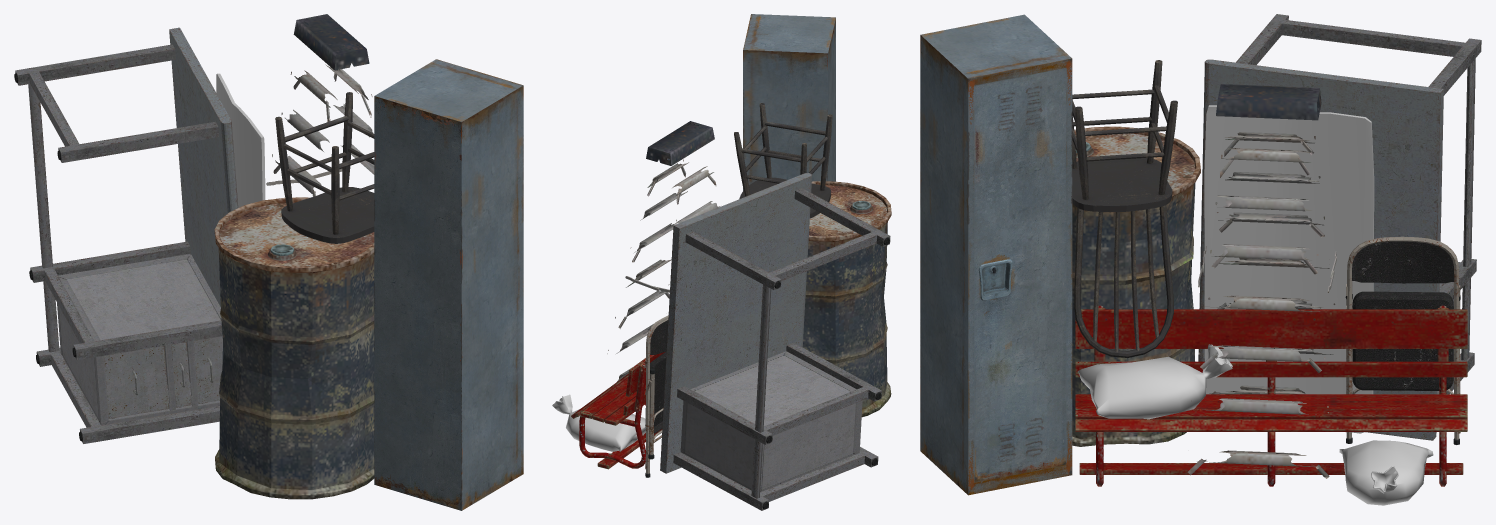
The model's file is Barricade8.fbx.
3 views of the same model, side by side, from view 1: azimuth 30°, elevation 25°; view 2: azimuth 150°, elevation 25°; view 3: azimuth 270°, elevation 25° (orthographic). The views are drawn at different scales.
Visible parts, largest first — view 1: LOD_1_Group_0_Sub_6__sm30_051_Locker01A_A_Mat1, LOD_1_Group_0_Sub_5__sm30_093_STARSPClDesk01A_A_Mat1, LOD_1_Group_0_Sub_8__sm26_013_oilCan01A_A_Mat, LOD_1_Group_0_Sub_2__sm30_115_cafeChair01A_A_Mat, LOD_1_Group_0_Sub_4__sm30_163_Foldingladder03A_A_Mat, LOD_1_Group_0_Sub_3__sm26_022_WoodBoard01A_A_Mat; view 2: LOD_1_Group_0_Sub_5__sm30_093_STARSPClDesk01A_A_Mat1, LOD_1_Group_0_Sub_6__sm30_051_Locker01A_A_Mat1, LOD_1_Group_0_Sub_8__sm26_013_oilCan01A_A_Mat, LOD_1_Group_0_Sub_4__sm30_163_Foldingladder03A_A_Mat, LOD_1_Group_0_Sub_7__sm30_112_bench01A_A_Mat, LOD_1_Group_0_Sub_2__sm30_115_cafeChair01A_A_Mat, LOD_1_Group_0_Sub_9__sm30_153_FoldingChair01A_A_Mat, LOD_1_Group_0_Sub_1__sm26_046_Sandbag04A_A_Mat__Env_default; view 3: LOD_1_Group_0_Sub_6__sm30_051_Locker01A_A_Mat1, LOD_1_Group_0_Sub_7__sm30_112_bench01A_A_Mat, LOD_1_Group_0_Sub_3__sm26_022_WoodBoard01A_A_Mat, LOD_1_Group_0_Sub_5__sm30_093_STARSPClDesk01A_A_Mat1, LOD_1_Group_0_Sub_8__sm26_013_oilCan01A_A_Mat, LOD_1_Group_0_Sub_4__sm30_163_Foldingladder03A_A_Mat, LOD_1_Group_0_Sub_2__sm30_115_cafeChair01A_A_Mat, LOD_1_Group_0_Sub_1__sm26_046_Sandbag04A_A_Mat__Env_default, LOD_1_Group_0_Sub_9__sm30_153_FoldingChair01A_A_Mat.
Boxes of the visible parts, x1,y1,x2,y2 form: LOD_1_Group_0_Sub_6__sm30_051_Locker01A_A_Mat1: (374,59,523,510); LOD_1_Group_0_Sub_5__sm30_093_STARSPClDesk01A_A_Mat1: (14,27,238,443); LOD_1_Group_0_Sub_8__sm26_013_oilCan01A_A_Mat: (214,197,374,499); LOD_1_Group_0_Sub_2__sm30_115_cafeChair01A_A_Mat: (275,92,374,243); LOD_1_Group_0_Sub_4__sm30_163_Foldingladder03A_A_Mat: (266,14,374,196); LOD_1_Group_0_Sub_3__sm26_022_WoodBoard01A_A_Mat: (216,73,265,207); LOD_1_Group_0_Sub_5__sm30_093_STARSPClDesk01A_A_Mat1: (660,173,890,510); LOD_1_Group_0_Sub_6__sm30_051_Locker01A_A_Mat1: (743,14,835,190); LOD_1_Group_0_Sub_8__sm26_013_oilCan01A_A_Mat: (802,181,891,417); LOD_1_Group_0_Sub_4__sm30_163_Foldingladder03A_A_Mat: (607,121,720,381); LOD_1_Group_0_Sub_7__sm30_112_bench01A_A_Mat: (571,352,664,469); LOD_1_Group_0_Sub_2__sm30_115_cafeChair01A_A_Mat: (734,103,832,218); LOD_1_Group_0_Sub_9__sm30_153_FoldingChair01A_A_Mat: (645,315,668,477); LOD_1_Group_0_Sub_1__sm26_046_Sandbag04A_A_Mat__Env_default: (552,395,645,451); LOD_1_Group_0_Sub_6__sm30_051_Locker01A_A_Mat1: (920,14,1072,495); LOD_1_Group_0_Sub_7__sm30_112_bench01A_A_Mat: (1075,305,1467,486); LOD_1_Group_0_Sub_3__sm26_022_WoodBoard01A_A_Mat: (1204,105,1374,433); LOD_1_Group_0_Sub_5__sm30_093_STARSPClDesk01A_A_Mat1: (1198,14,1481,440); LOD_1_Group_0_Sub_8__sm26_013_oilCan01A_A_Mat: (1072,126,1200,446); LOD_1_Group_0_Sub_4__sm30_163_Foldingladder03A_A_Mat: (1187,84,1336,478); LOD_1_Group_0_Sub_2__sm30_115_cafeChair01A_A_Mat: (1072,60,1177,357); LOD_1_Group_0_Sub_1__sm26_046_Sandbag04A_A_Mat__Env_default: (1077,344,1433,505); LOD_1_Group_0_Sub_9__sm30_153_FoldingChair01A_A_Mat: (1345,236,1460,444).
Bounding box in the file's own units: 2 × 2.02 × 2.45.
